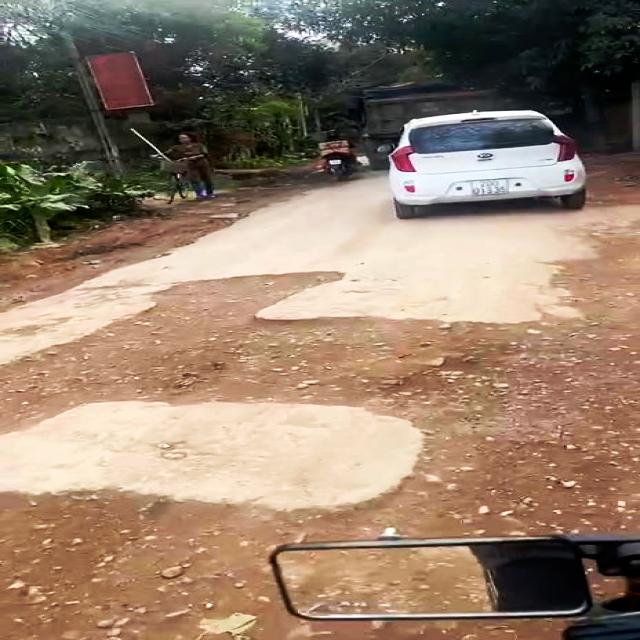pothole: (9, 479, 640, 640), (0, 272, 640, 426), (542, 223, 640, 321)
